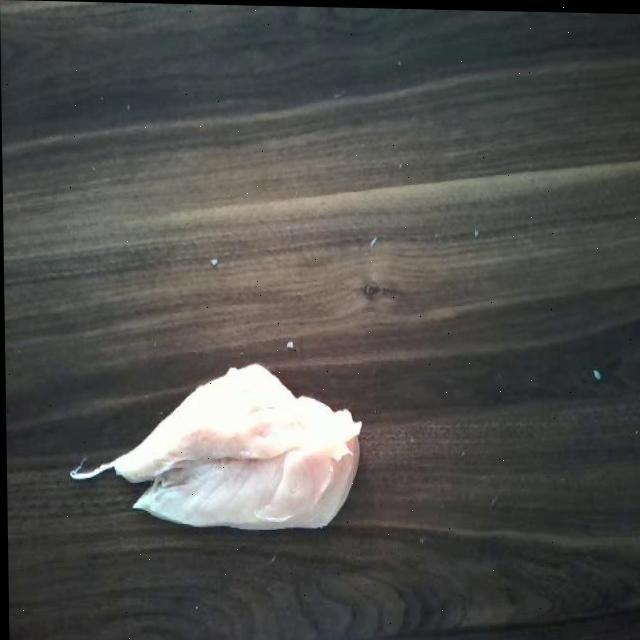breast: (102, 360, 366, 540)
